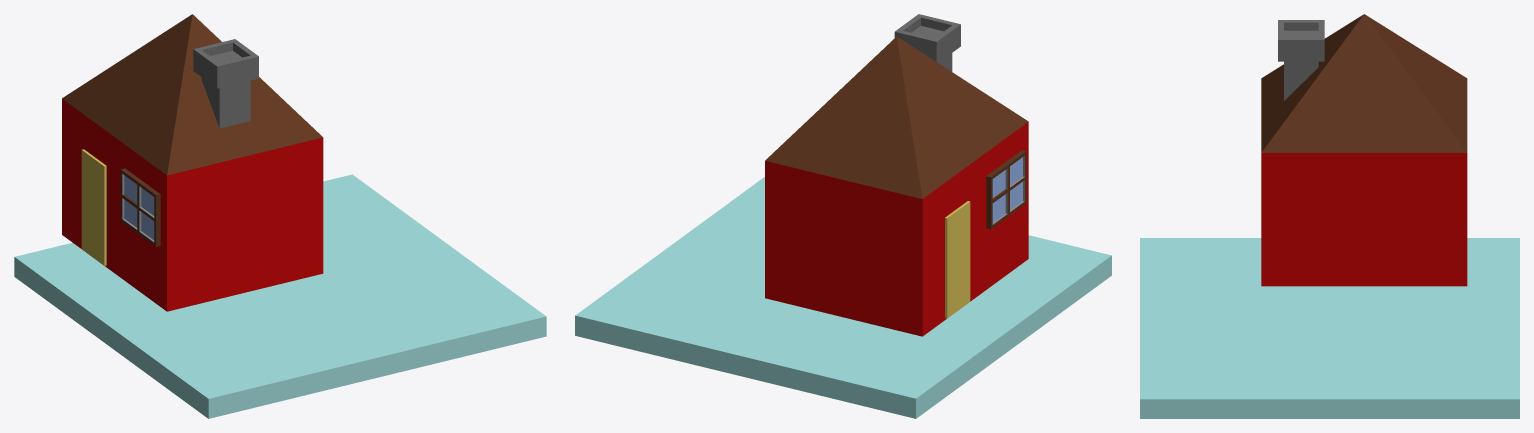
File: casa.DAE
The picture shows the model from 3 angles, left to right: view 1: azimuth 30°, elevation 25°; view 2: azimuth 150°, elevation 25°; view 3: azimuth 270°, elevation 25°; orthographic projection. The views are drawn at different scales.
Visible parts, largest first — view 1: Box005, Box01, Pyramid01, Box04, Box03, Box02; view 2: Box005, Box01, Pyramid01, Box03, Box02, Box04; view 3: Box005, Box01, Pyramid01, Box04.
Boxes of the visible parts, bbox=[...] form: Box005: bbox=[14, 174, 546, 418]; Box01: bbox=[62, 99, 323, 311]; Pyramid01: bbox=[62, 14, 322, 175]; Box04: bbox=[193, 39, 258, 128]; Box03: bbox=[81, 149, 106, 265]; Box02: bbox=[120, 168, 160, 246]; Box005: bbox=[575, 177, 1111, 418]; Box01: bbox=[765, 122, 1028, 336]; Pyramid01: bbox=[765, 36, 1028, 198]; Box03: bbox=[945, 201, 970, 318]; Box02: bbox=[986, 150, 1026, 229]; Box04: bbox=[894, 14, 960, 71]; Box005: bbox=[1140, 238, 1519, 418]; Box01: bbox=[1261, 153, 1467, 286]; Pyramid01: bbox=[1261, 14, 1467, 152]; Box04: bbox=[1278, 20, 1324, 100].
Size of the model in its own units: 130 by 129 by 109.
